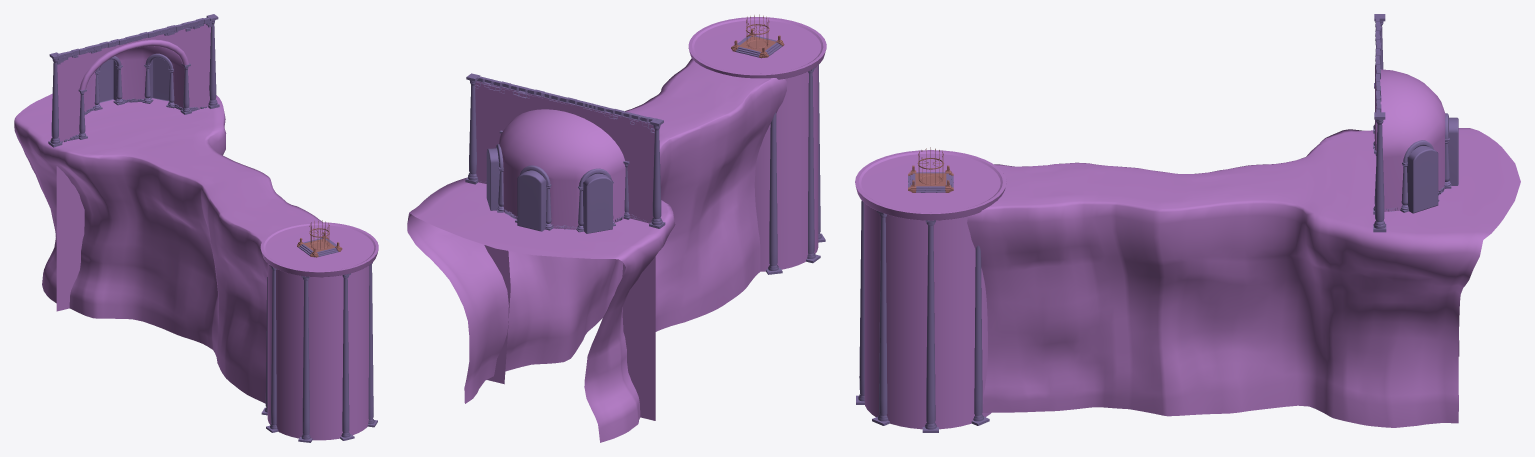
File: cmc_finalfloor_full.fbx
The picture shows the model from 3 angles, left to right: view 1: azimuth 30°, elevation 25°; view 2: azimuth 150°, elevation 25°; view 3: azimuth 270°, elevation 25°; orthographic projection. The views are drawn at different scales.
Visible parts, largest first — view 1: fbr_land_bridge_01, fbr_tower_01, fbr_wall_upper, fbr_pillar_grp_01, fbr_wall_lower, fbr_alcove_03, fbr_bricks_upper, fbr_alcove_02, fbr_pillar_05, fbr_pillar_04; view 2: fbr_land_bridge_01, fbr_wall_upper, fbr_tower_01, fbr_wall_lower, fbr_pillar_grp_01, fbr_alcove_01, fbr_alcove_02, fbr_bricks_upper, fbr_alcove_03, fbr_pillar_05, fbr_pillar_04, elevator_base; view 3: fbr_land_bridge_01, fbr_tower_01, fbr_pillar_grp_01, fbr_wall_upper, fbr_alcove_03, fbr_pillar_04, fbr_alcove_02.
Part boxes in pixels (x1,y1,x2,y2): fbr_land_bridge_01: (14, 93, 322, 403); fbr_tower_01: (260, 222, 378, 440); fbr_wall_upper: (57, 24, 210, 141); fbr_pillar_grp_01: (261, 262, 377, 442); fbr_wall_lower: (56, 166, 84, 311); fbr_alcove_03: (142, 53, 174, 108); fbr_bricks_upper: (57, 17, 212, 64); fbr_alcove_02: (94, 56, 124, 110); fbr_pillar_05: (48, 52, 62, 147); fbr_pillar_04: (206, 14, 219, 108); fbr_land_bridge_01: (407, 58, 786, 442); fbr_wall_upper: (475, 81, 654, 229); fbr_tower_01: (688, 17, 826, 271); fbr_wall_lower: (484, 245, 655, 420); fbr_pillar_grp_01: (766, 64, 825, 274); fbr_alcove_01: (576, 168, 615, 233); fbr_alcove_02: (515, 165, 552, 231); fbr_bricks_upper: (475, 76, 657, 132); fbr_alcove_03: (486, 144, 504, 212); fbr_pillar_05: (649, 118, 665, 228); fbr_pillar_04: (465, 73, 480, 184); elevator_base: (731, 28, 784, 58); fbr_land_bridge_01: (967, 128, 1520, 427); fbr_tower_01: (855, 150, 1006, 429); fbr_pillar_grp_01: (856, 200, 989, 432); fbr_wall_upper: (1375, 65, 1445, 211); fbr_alcove_03: (1400, 140, 1439, 213); fbr_pillar_04: (1373, 112, 1386, 232); fbr_alcove_02: (1444, 113, 1458, 188).
Size of the model in its own units: 262 by 343 by 628.
